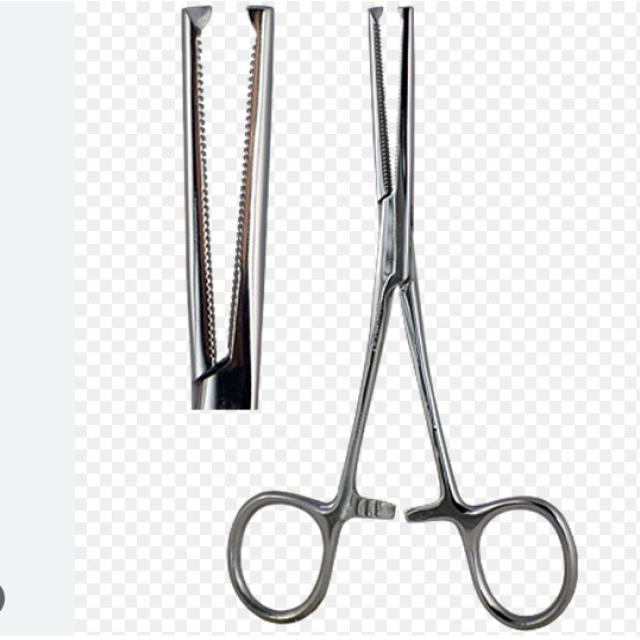Kocher Forceps: (176, 2, 583, 632)
